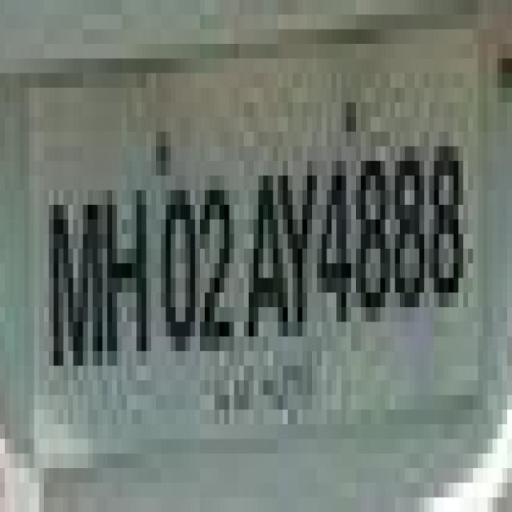number plate: (0, 45, 512, 454)
